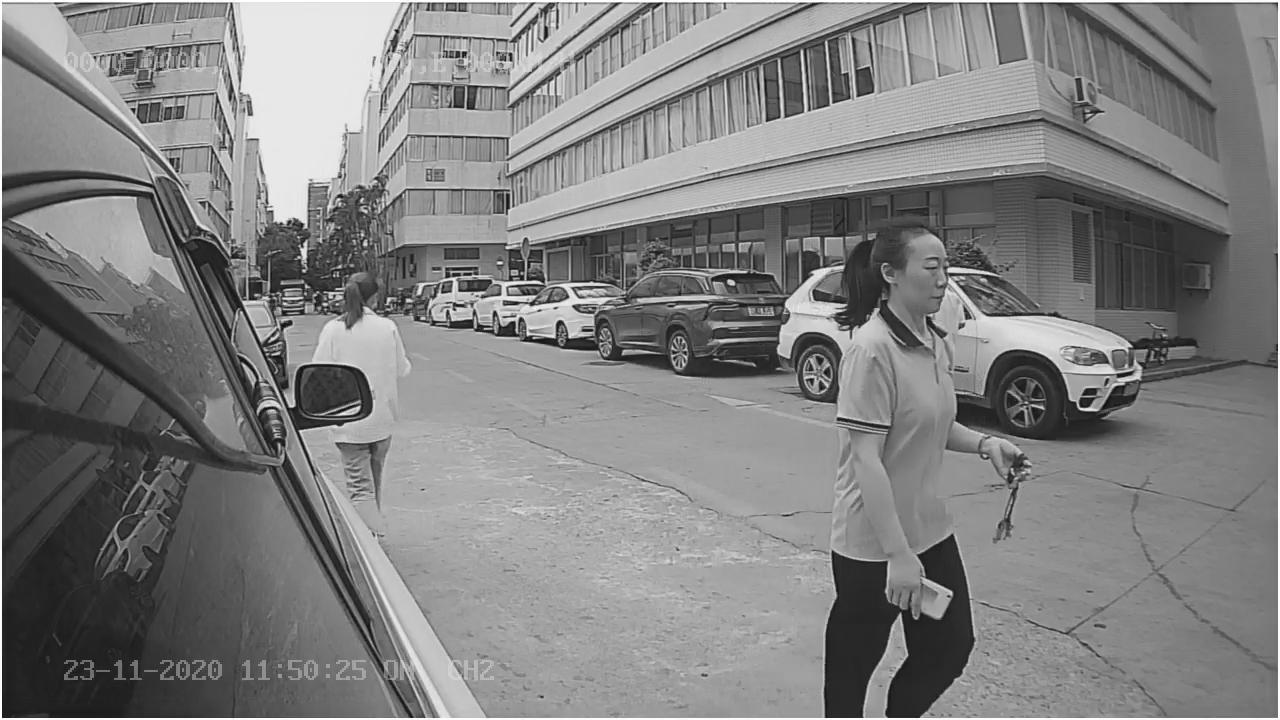person: (817, 196, 1034, 486), (312, 258, 409, 369)
